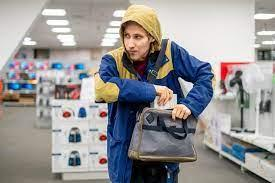shoplifting: (94, 0, 218, 183)
